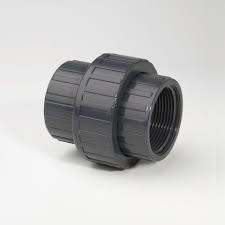Thread: (139, 80, 182, 164)
